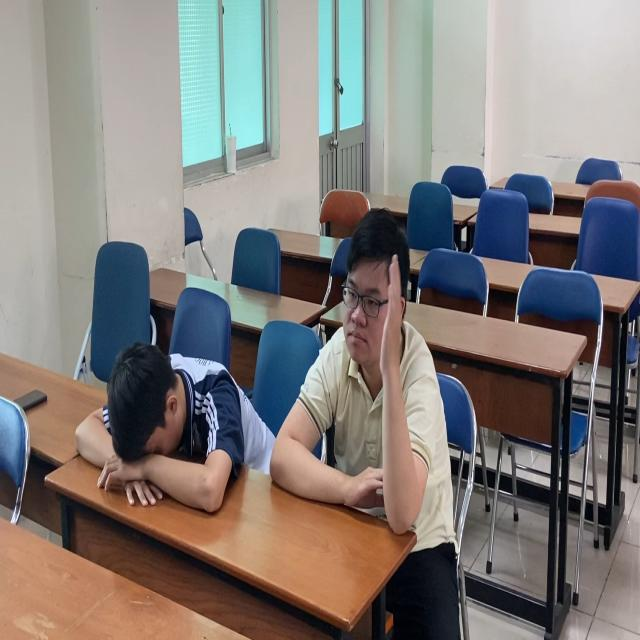raise_hand: (280, 207, 462, 546)
sleep: (73, 332, 262, 527)
